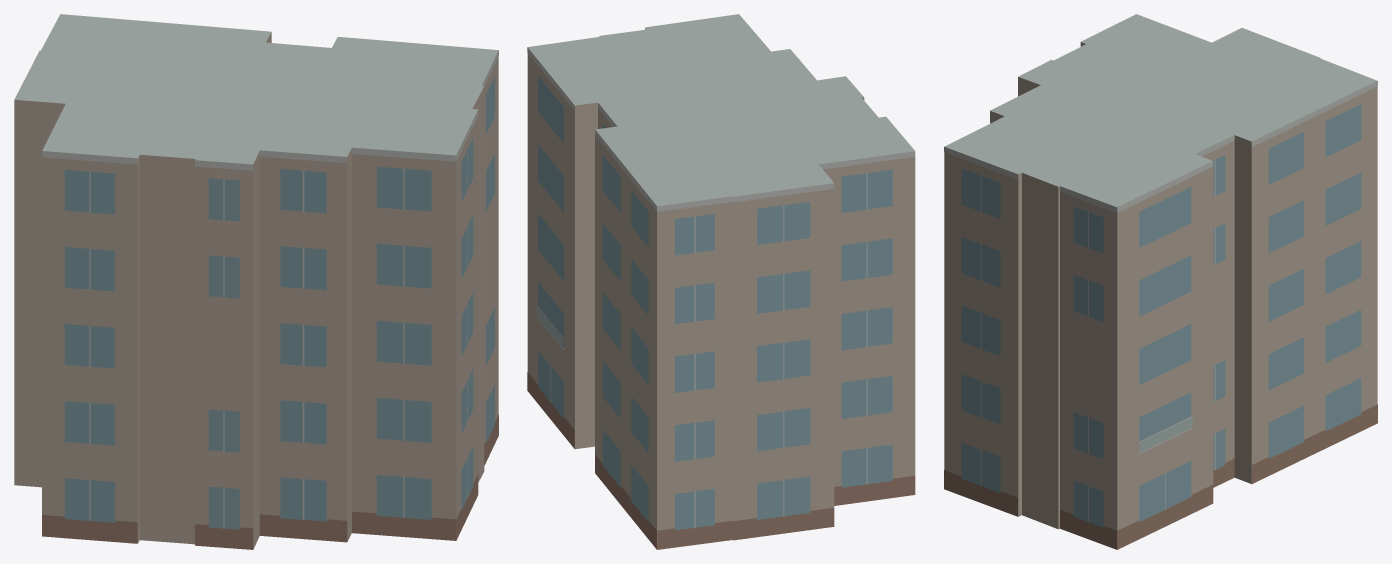
Rendered from survey-upis-32670540.glb.
3 renders of one model, left to right at view 1: azimuth 30°, elevation 25°; view 2: azimuth 150°, elevation 25°; view 3: azimuth 270°, elevation 25°, orthographic. The views are drawn at different scales.
Visible parts, largest first — view 1: survey-upis-32670540.tmp; view 2: survey-upis-32670540.tmp; view 3: survey-upis-32670540.tmp.
Boxes of the visible parts, <box> form: survey-upis-32670540.tmp: <box>14,14,498,549</box>; survey-upis-32670540.tmp: <box>527,14,915,549</box>; survey-upis-32670540.tmp: <box>944,14,1377,549</box>.
Size of the model in its own units: 18.05 by 14.9 by 17.1.
